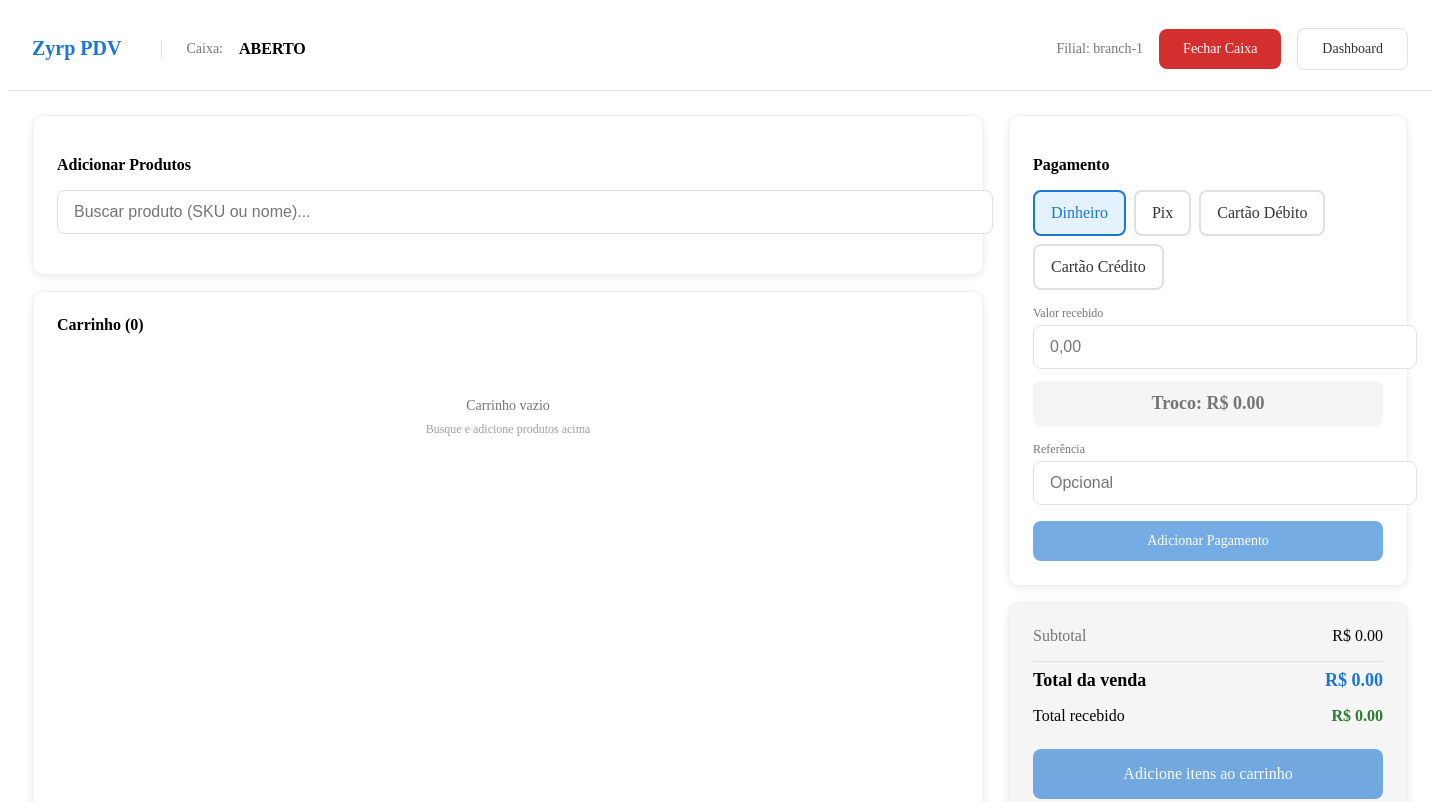
Scenario: Sale › enables exact payment when binary floating-point totals round to the same cents
Type "Produto Centavos" into the field with placeholder "Buscar produto (SKU ou nome)..." at (525,212), box x1=57 y1=190 x2=993 y2=234
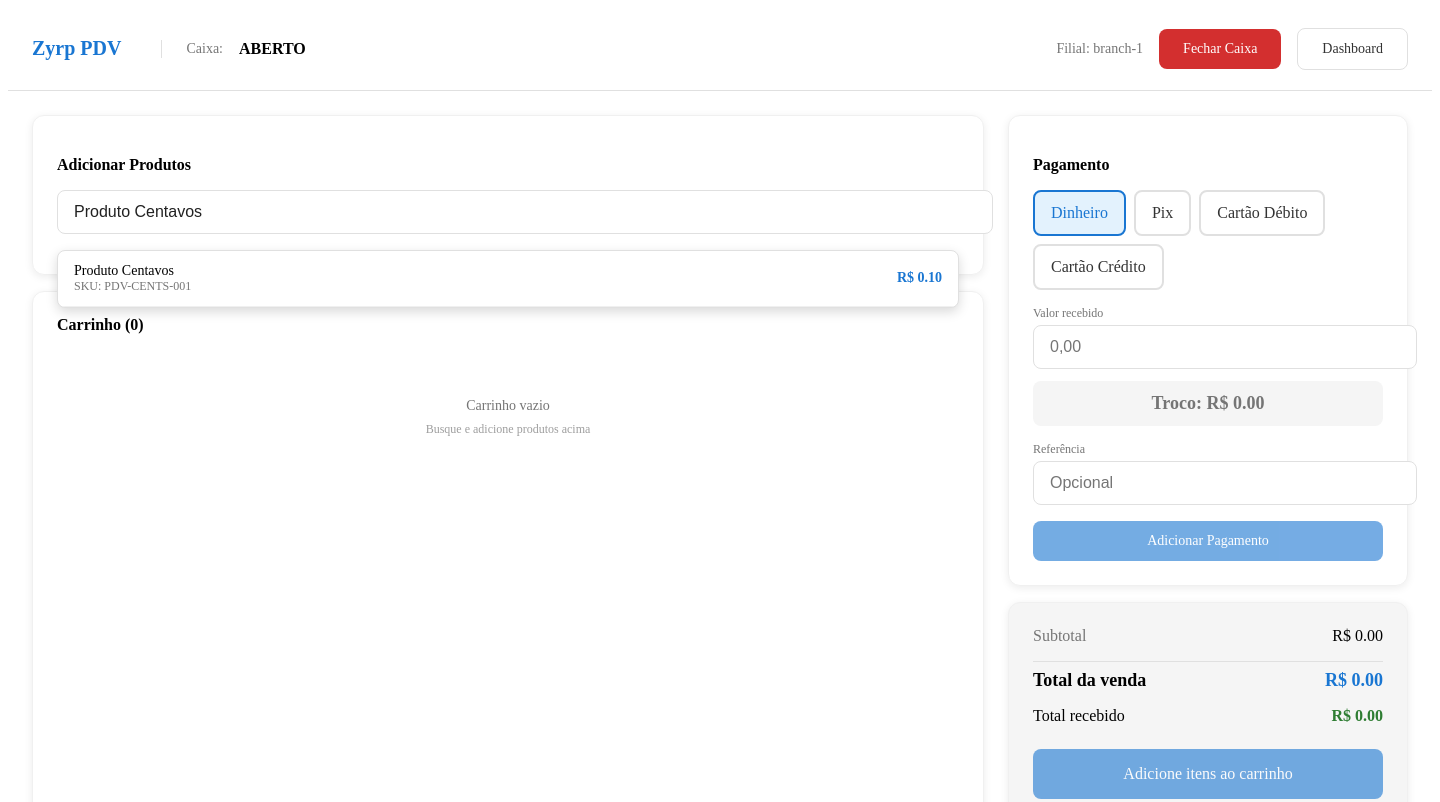
Click the text "Produto Centavos" at (133,271), box x1=74 y1=263 x2=191 y2=279
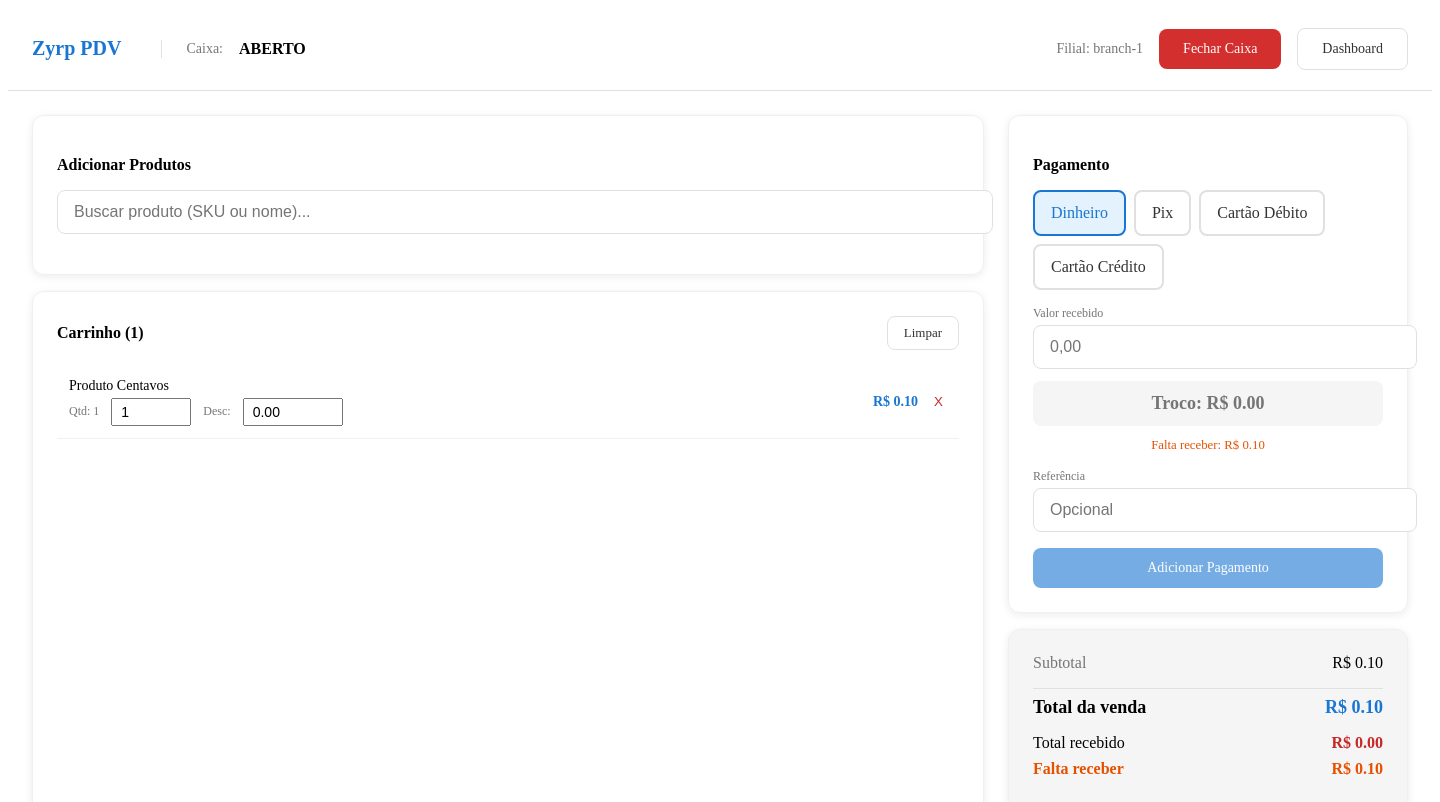
Replace the text in the 2nd number field with "3" at (151,412), box x1=111 y1=398 x2=191 y2=426
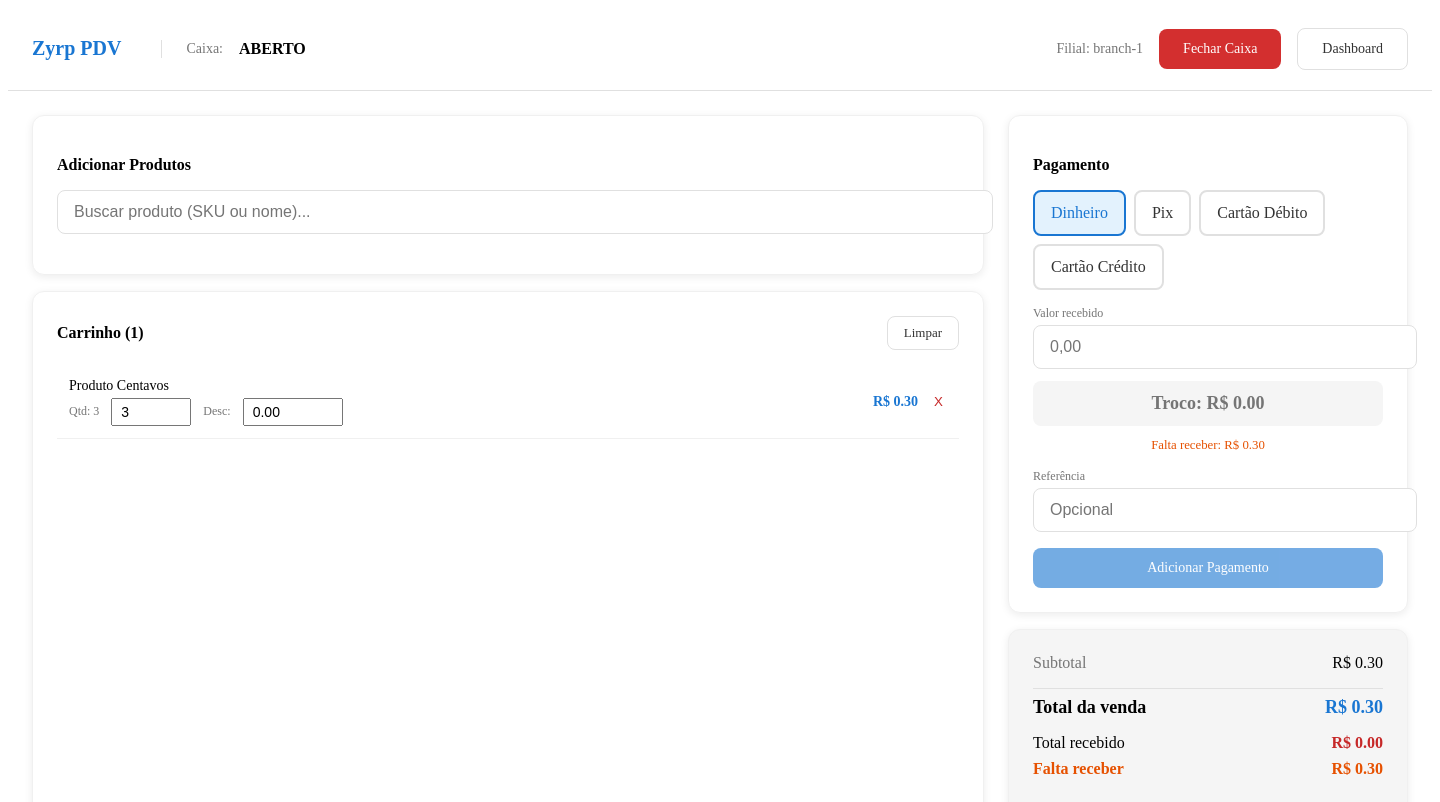
Type "0.30" into the number field with placeholder "0,00" at (1225,347), box x1=1033 y1=325 x2=1417 y2=369
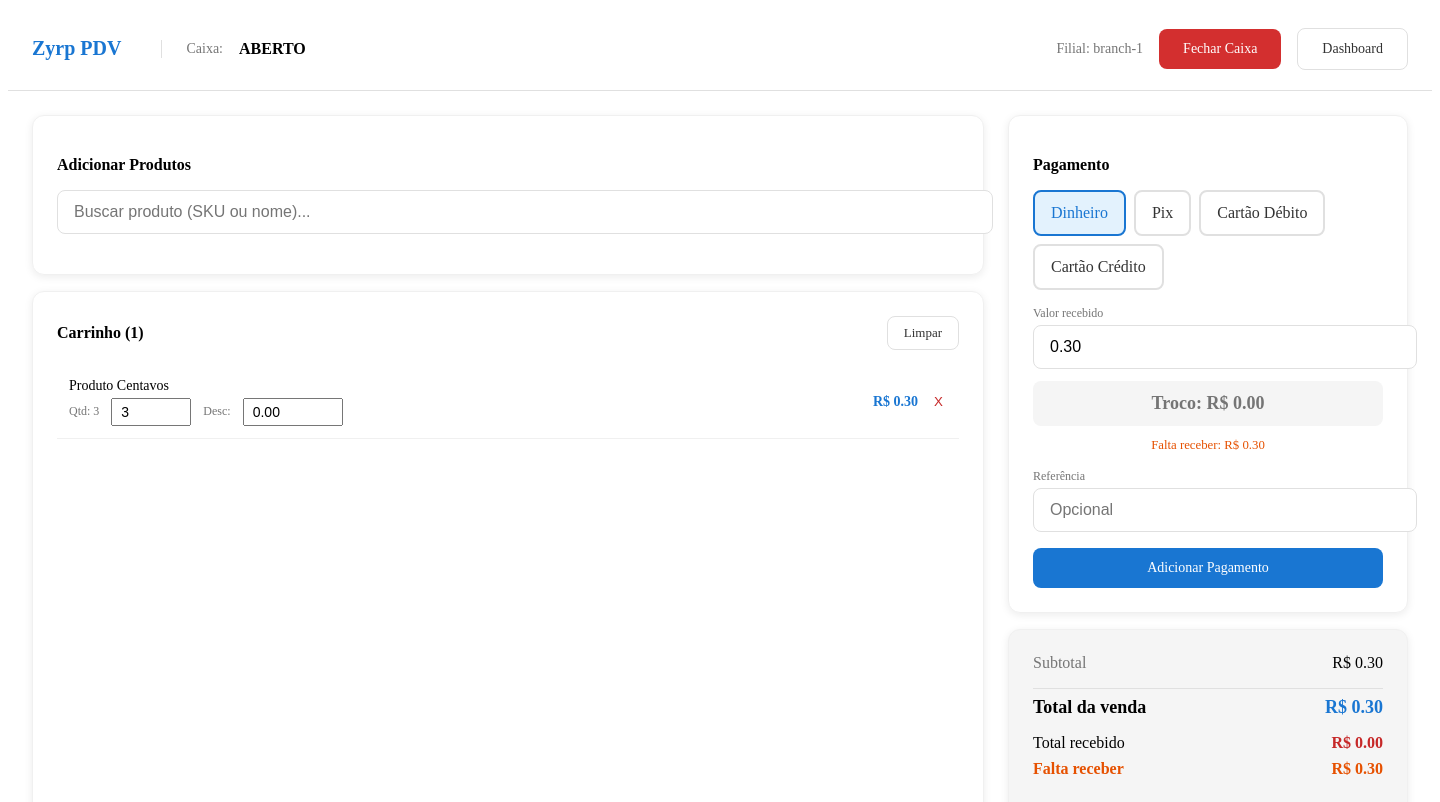
Click the button "Adicionar Pagamento" at (1208,568), box x1=1033 y1=548 x2=1383 y2=588
(page scrolled)
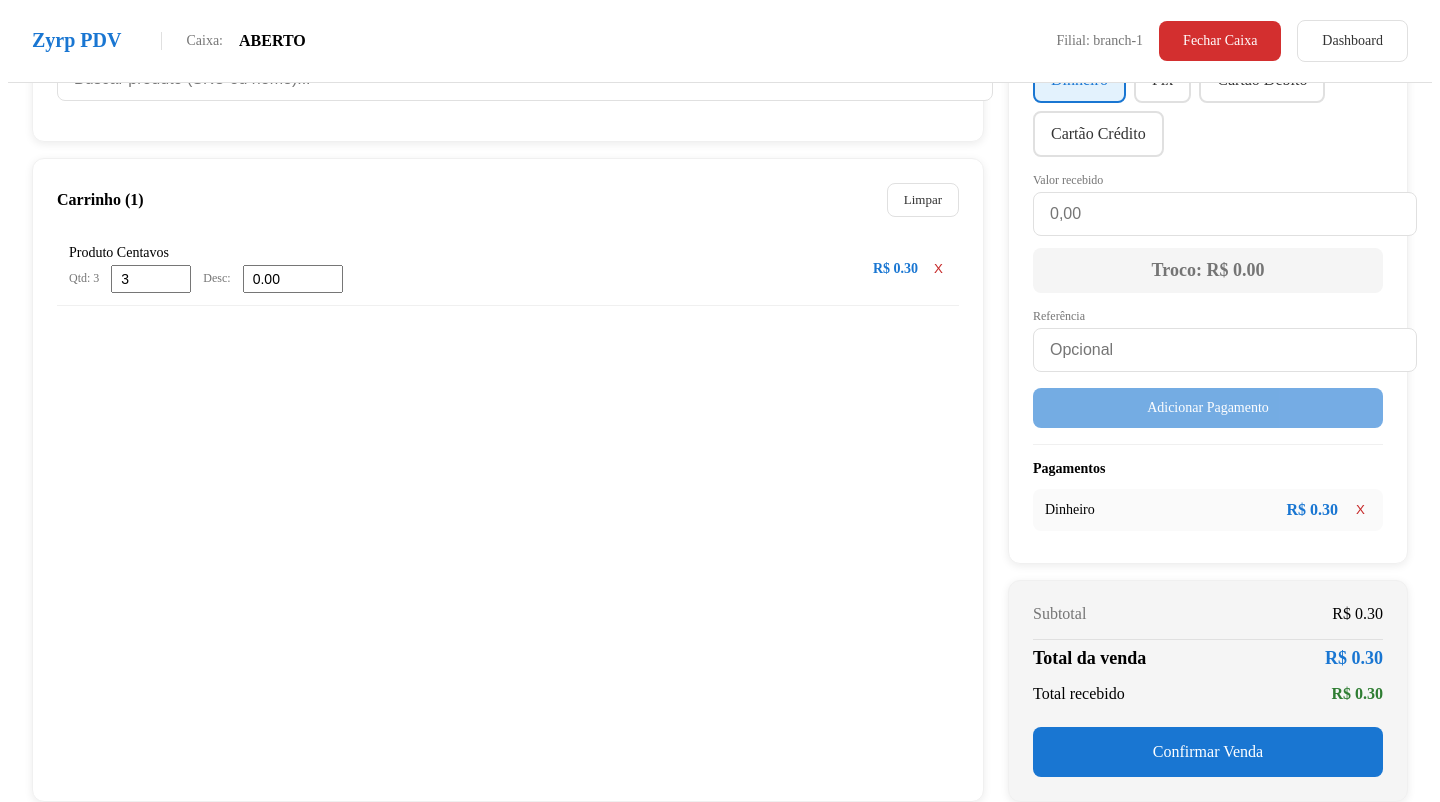
Result: the button "Confirmar Venda" is enabled at x1=1033 y1=727 x2=1383 y2=777
